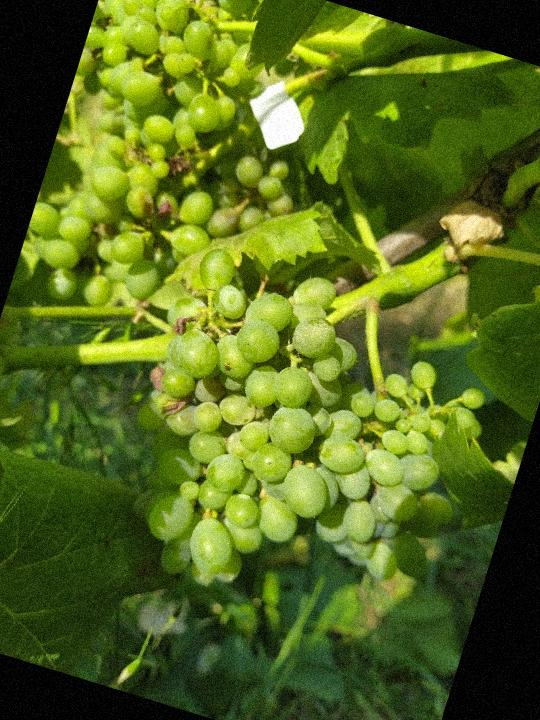grape: (81, 229, 521, 661)
